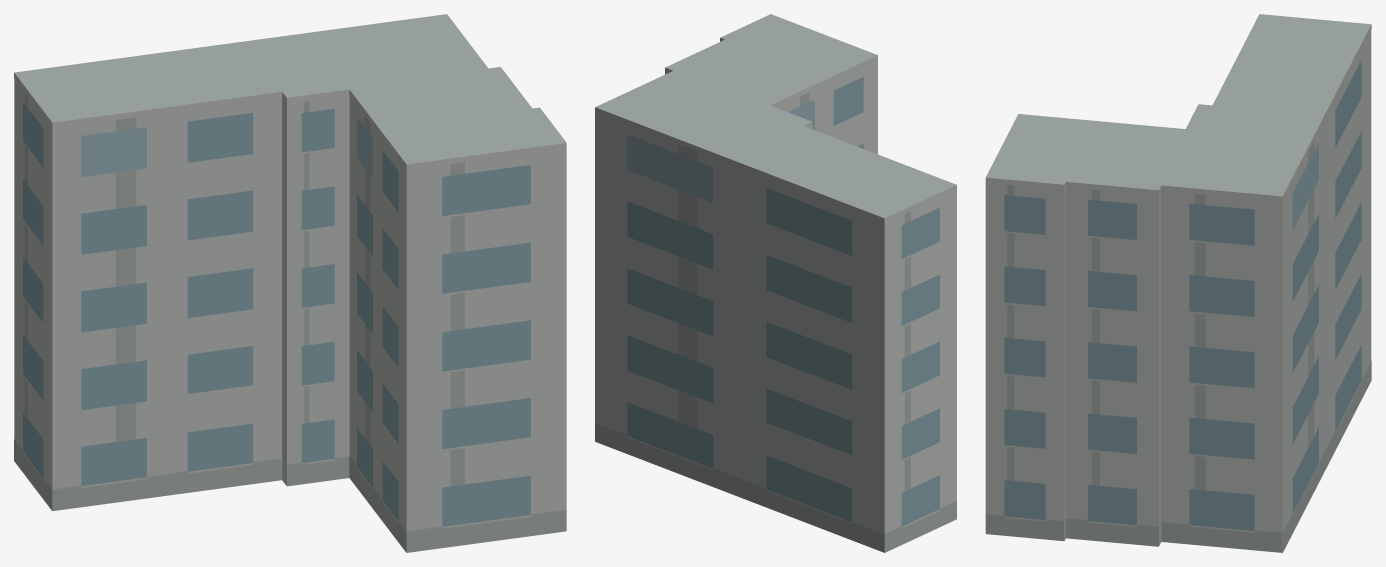
Rendered from survey-upis-32910642.glb.
3 renders of one model, left to right at view 1: azimuth 30°, elevation 25°; view 2: azimuth 150°, elevation 25°; view 3: azimuth 270°, elevation 25°, orthographic. The views are drawn at different scales.
Visible parts, largest first — view 1: survey-upis-32910642.tmp; view 2: survey-upis-32910642.tmp; view 3: survey-upis-32910642.tmp.
Boxes of the visible parts, <box> form: survey-upis-32910642.tmp: <box>14,14,566,552</box>; survey-upis-32910642.tmp: <box>595,14,956,552</box>; survey-upis-32910642.tmp: <box>985,14,1371,552</box>.
Size of the model in its own units: 18.23 by 16.6 by 16.29.
